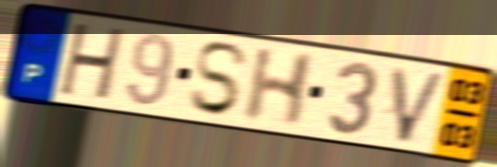3: (325, 58, 381, 138)
9: (123, 31, 176, 110)
H: (239, 46, 319, 129), (55, 21, 129, 104)
S: (186, 39, 253, 119)
V: (389, 64, 451, 146)
